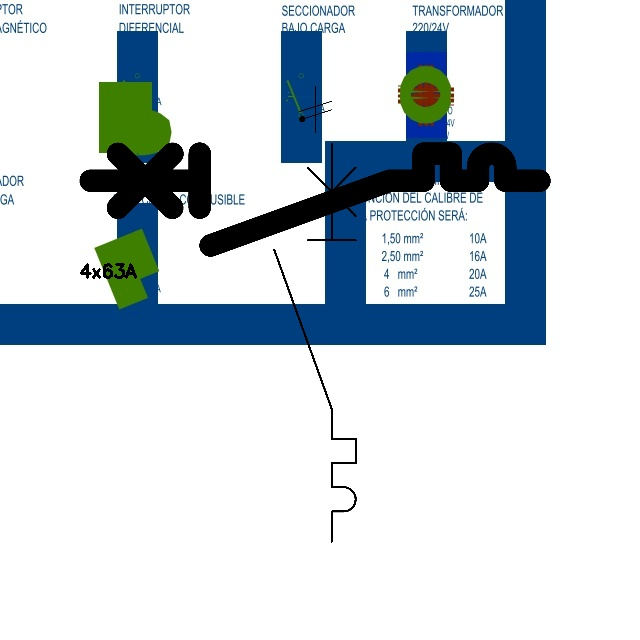interruptor_termomagnetico: (79, 142, 551, 257), (264, 133, 366, 552)
